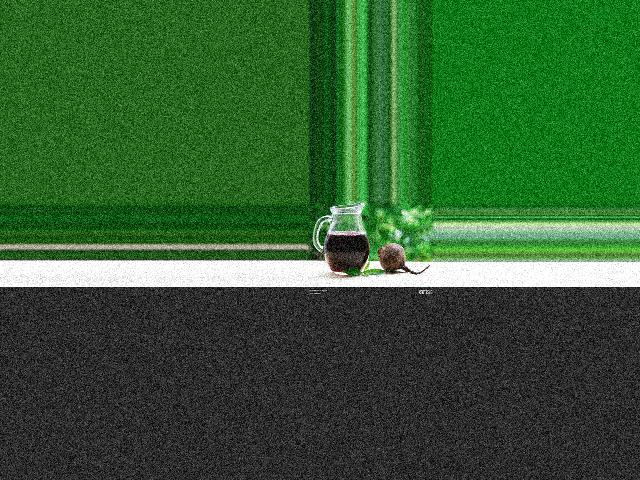beet: (377, 243, 429, 275)
